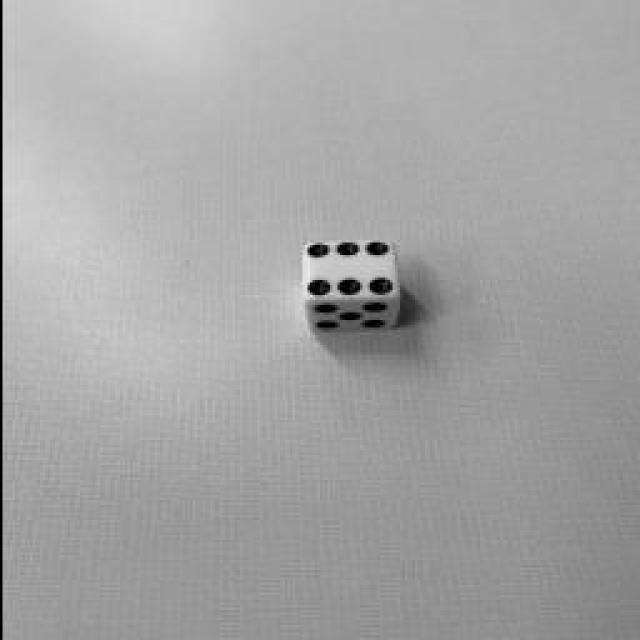dice_6: (300, 240, 398, 298)
